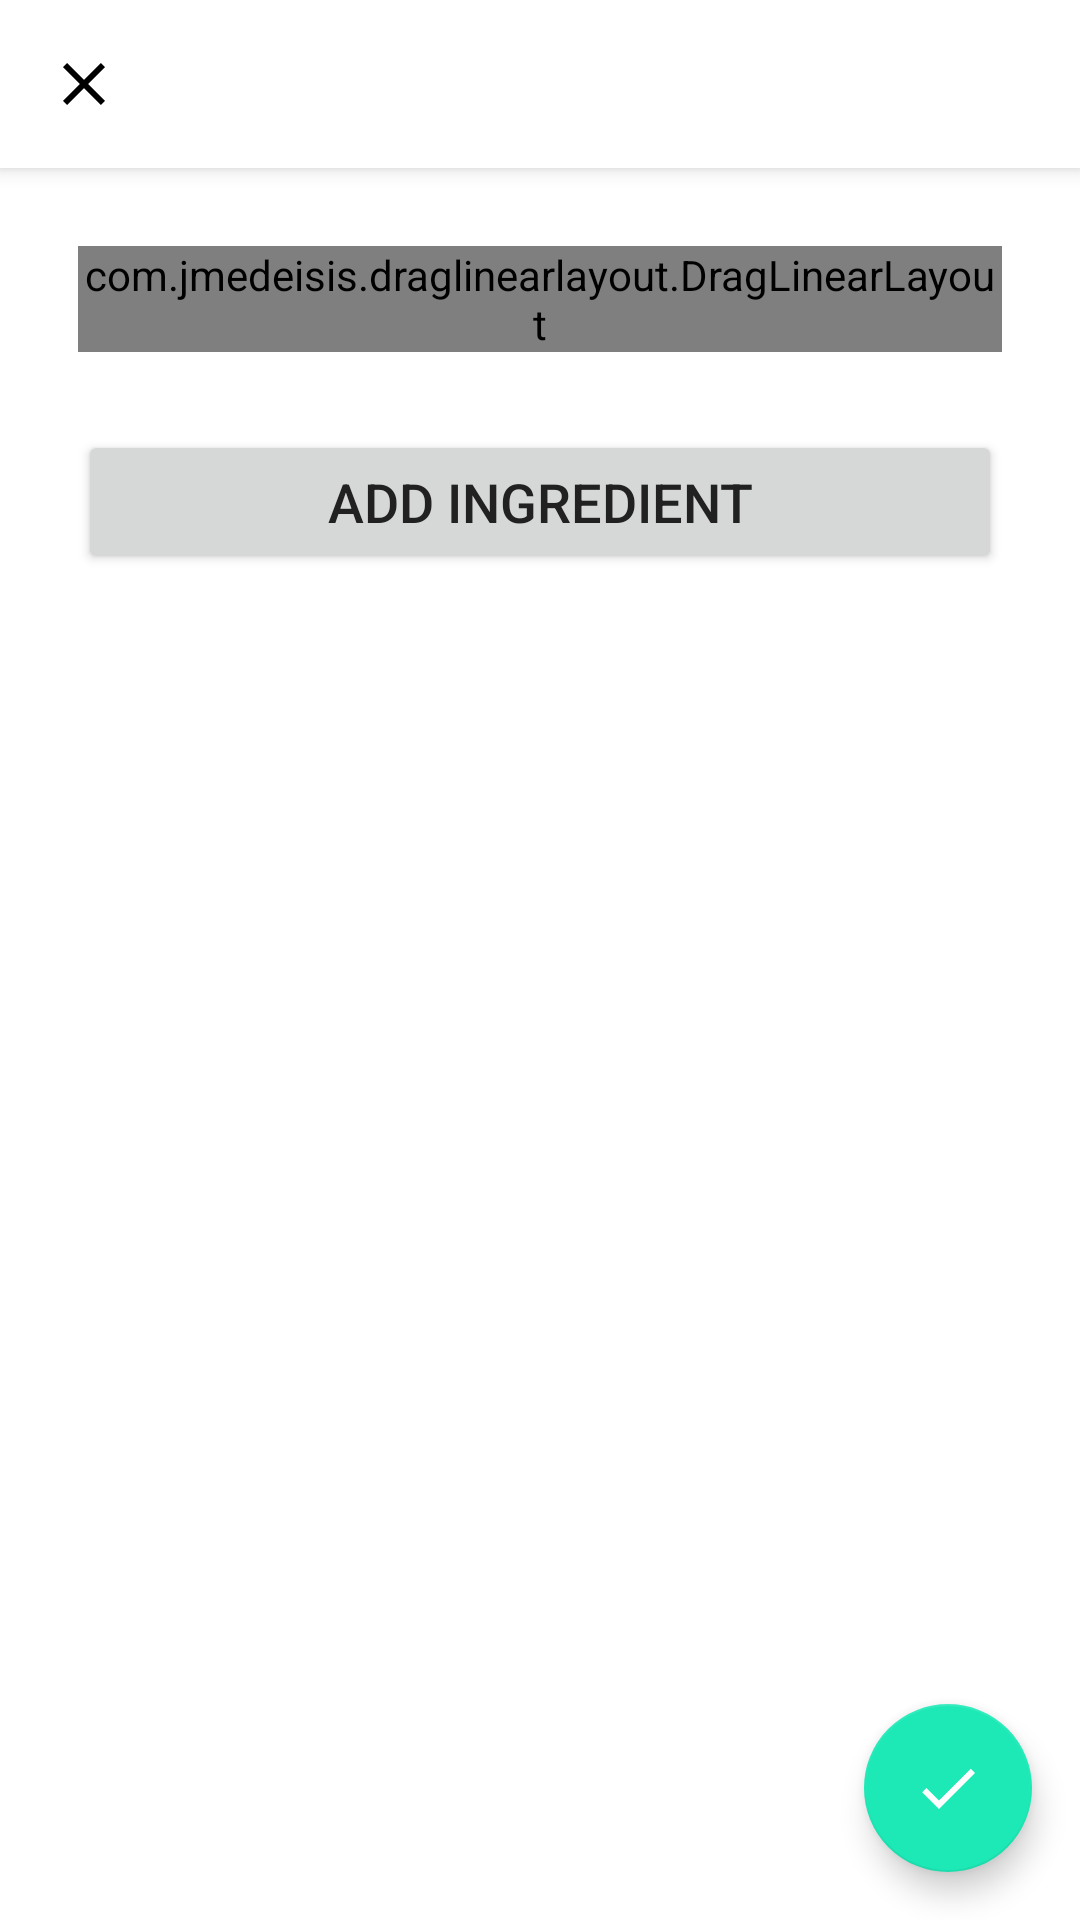

Named icons in this screenshot (1080x1920) and their bounding boxes, (x1, y1, x2, y2):
done: (864, 1704, 1032, 1872)
